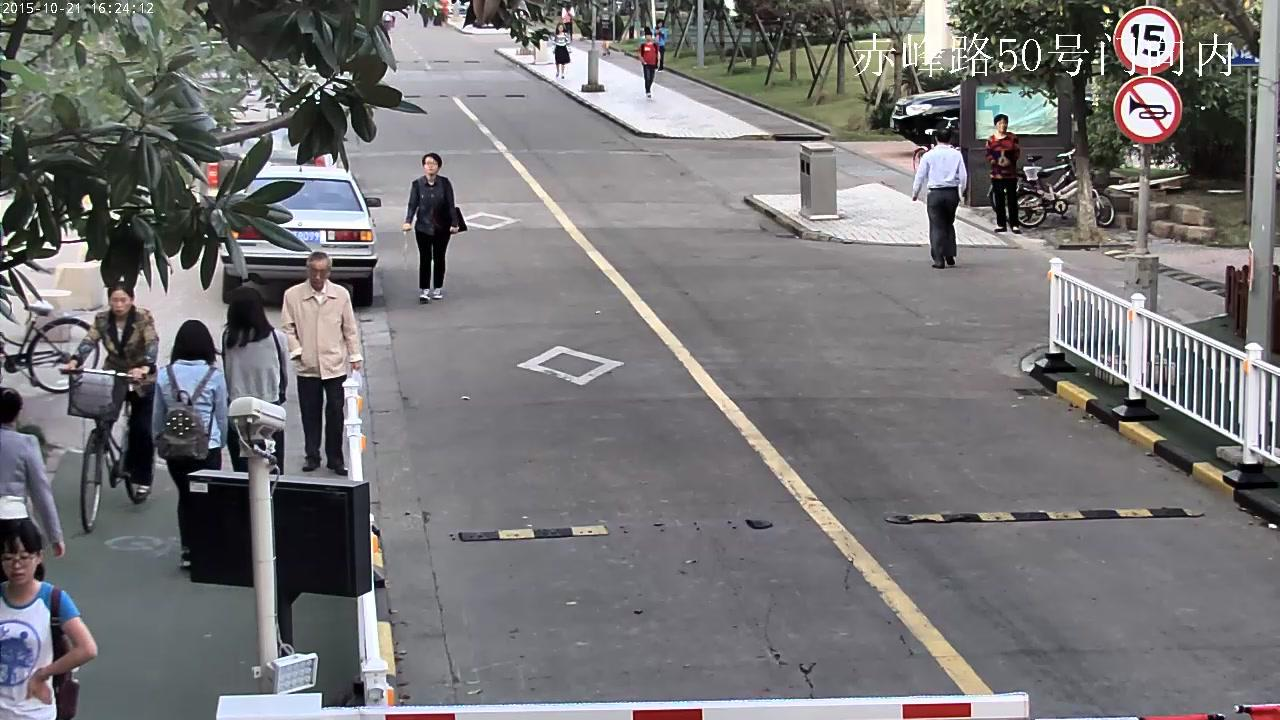face: (1, 552, 34, 585), (110, 290, 130, 315), (309, 260, 327, 287), (425, 156, 438, 174), (997, 119, 1006, 132), (557, 23, 564, 31), (646, 34, 651, 40), (657, 21, 663, 26)
